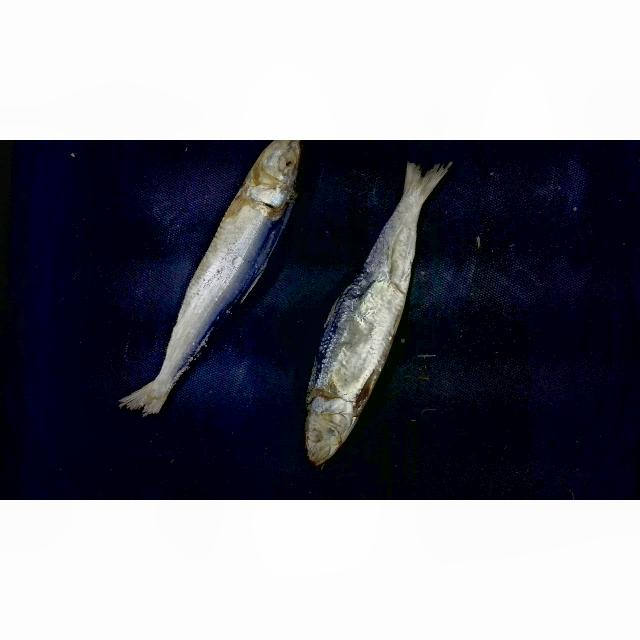Grade_A_Body: (172, 198, 295, 351), (308, 240, 421, 382)
Grade_A_Head: (285, 381, 375, 471), (231, 140, 318, 204)
Grade_A_Tail: (368, 156, 466, 241), (117, 336, 203, 430)
